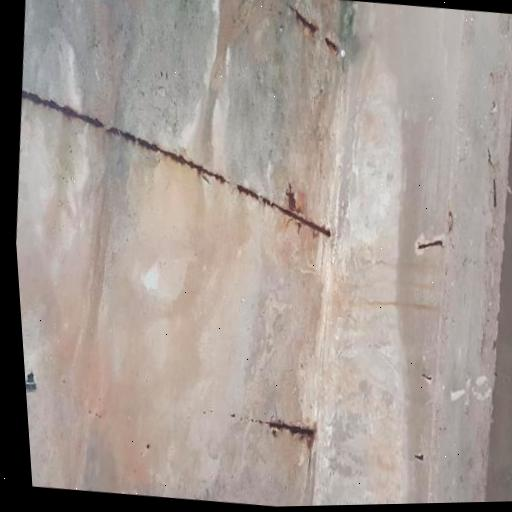exposed_rebar: (22, 91, 227, 182), (236, 185, 331, 237), (258, 420, 315, 442), (292, 8, 318, 37), (415, 241, 443, 253), (286, 182, 297, 211), (325, 38, 339, 55), (448, 211, 453, 233), (421, 373, 432, 382), (415, 454, 423, 459), (494, 341, 496, 350)
